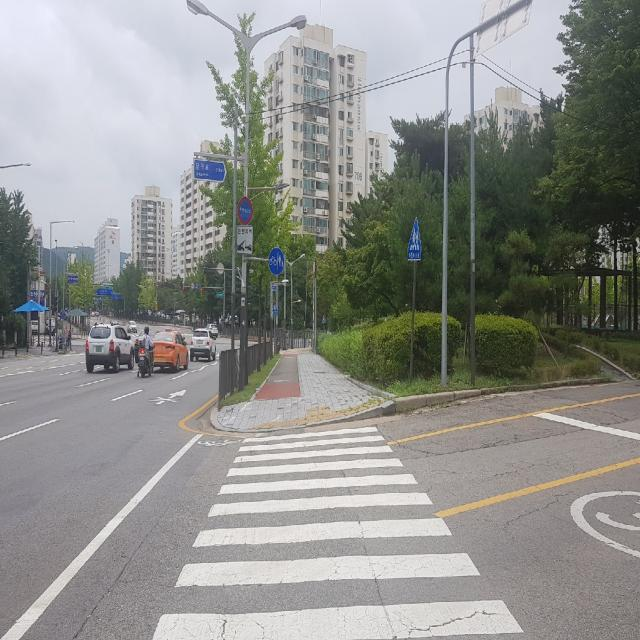횡단보도: (149, 424, 525, 640)
